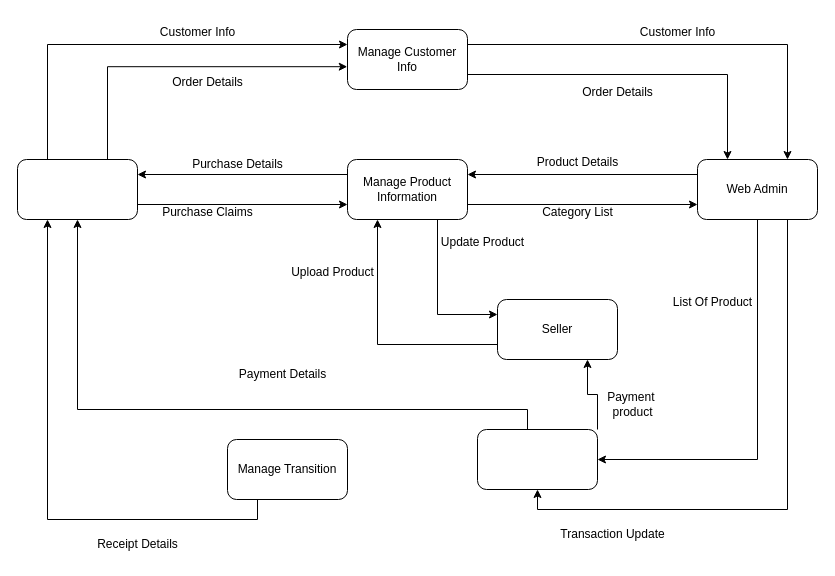
This 835x576 diagram has some shape labels left out. Here are the shapes that lost their labels. From the top down, the centre of each, then its label:
At [77,189]: "Customer".
At [537,459]: "Manage Payment / Revenue".
